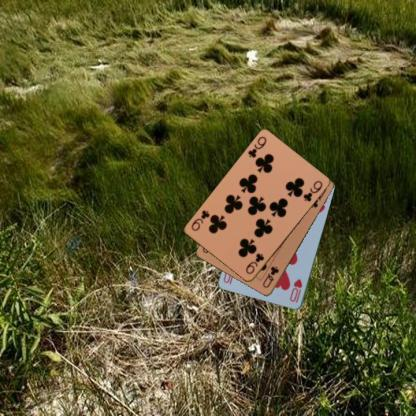10h: (287, 276, 303, 305)
9c: (245, 134, 268, 160), (243, 250, 265, 275)
Qc: (260, 264, 280, 290)
